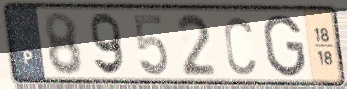2: (174, 12, 218, 78)
5: (132, 12, 171, 77)
8: (43, 10, 84, 78)
9: (89, 12, 126, 78)
C: (222, 14, 258, 77)
G: (261, 13, 308, 80)
